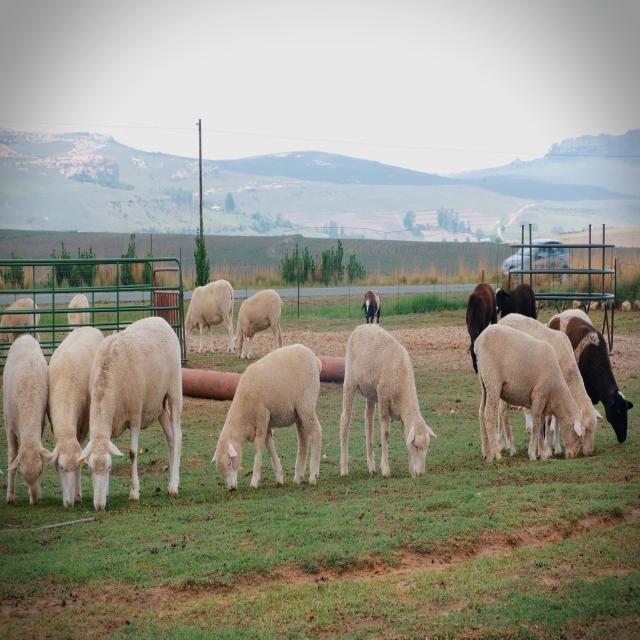sheep: (88, 315, 198, 511), (206, 338, 335, 500), (340, 314, 440, 490), (468, 330, 586, 469), (2, 329, 48, 517), (46, 320, 88, 515)
